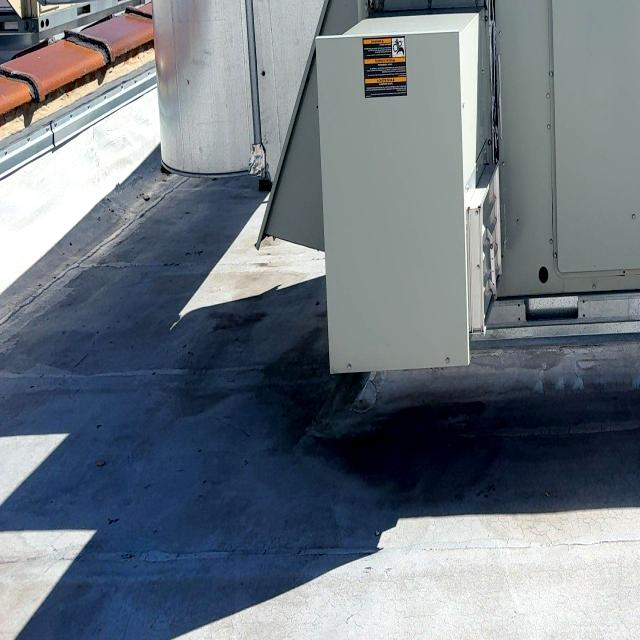RTU: (256, 0, 640, 394)
